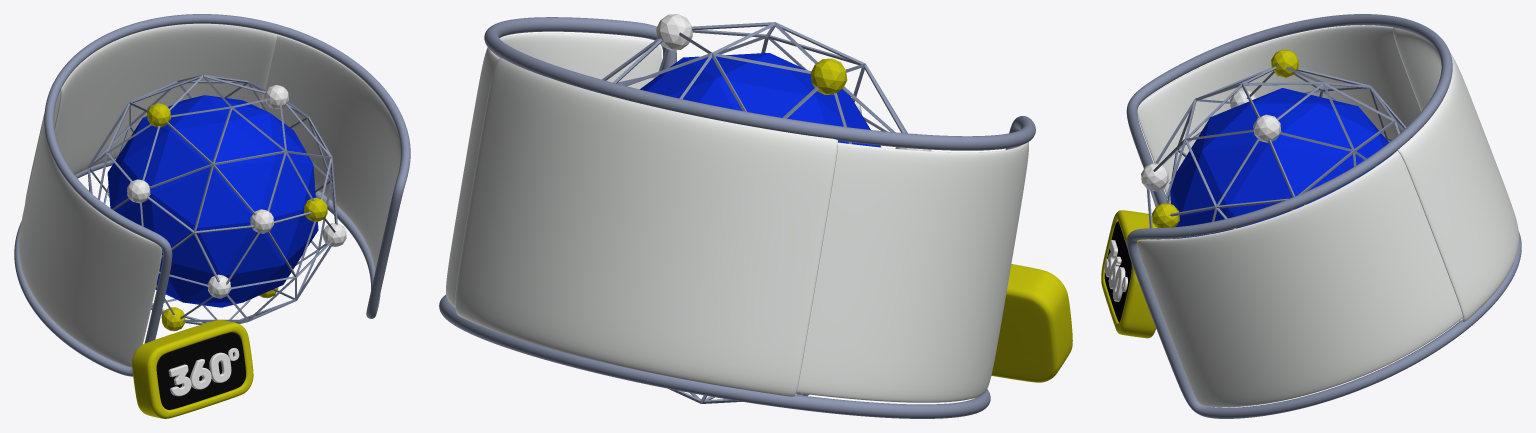
Rendered from 360-Degree AR Viewer.glb.
3 renders of one model, left to right at view 1: azimuth 30°, elevation 25°; view 2: azimuth 150°, elevation 25°; view 3: azimuth 270°, elevation 25°, orthographic. The views are drawn at different scales.
Parts seen in each view (by area): view 1: Circle.014, Icosphere.002, Circle.016, Circle.015, Icosphere.003, Cube.027, Cube.028, Text.001, Icosphere.007, Icosphere.012, Icosphere.005, Icosphere.006 (+4 smaller); view 2: Circle.016, Circle.014, Circle.015, Icosphere.002, Cube.027, Icosphere.003, Icosphere.007, Icosphere.004; view 3: Circle.014, Circle.016, Icosphere.002, Circle.015, Icosphere.003, Cube.027, Cube.028, Text.001, Icosphere.004, Icosphere.007, Icosphere.012, Icosphere.005.
Boxes of the visible parts, x1=… form: Circle.014: x1=18, y1=34, x2=400, y2=367; Icosphere.002: x1=107, y1=95, x2=318, y2=307; Circle.016: x1=25, y1=23, x2=277, y2=201; Circle.015: x1=14, y1=14, x2=410, y2=376; Icosphere.003: x1=87, y1=74, x2=337, y2=324; Cube.027: x1=132, y1=319, x2=253, y2=418; Cube.028: x1=156, y1=332, x2=245, y2=409; Text.001: x1=168, y1=348, x2=239, y2=396; Icosphere.007: x1=147, y1=103, x2=170, y2=127; Icosphere.012: x1=250, y1=209, x2=273, y2=233; Icosphere.005: x1=304, y1=197, x2=327, y2=221; Icosphere.006: x1=127, y1=179, x2=150, y2=203; Circle.016: x1=455, y1=58, x2=837, y2=396; Circle.014: x1=446, y1=33, x2=1028, y2=402; Circle.015: x1=439, y1=17, x2=1035, y2=418; Icosphere.002: x1=640, y1=53, x2=880, y2=147; Cube.027: x1=991, y1=264, x2=1072, y2=382; Icosphere.003: x1=602, y1=22, x2=907, y2=403; Icosphere.007: x1=810, y1=58, x2=847, y2=94; Icosphere.004: x1=656, y1=14, x2=692, y2=50; Circle.014: x1=1137, y1=25, x2=1463, y2=407; Circle.016: x1=1393, y1=27, x2=1519, y2=321; Icosphere.002: x1=1169, y1=88, x2=1392, y2=238; Circle.015: x1=1126, y1=14, x2=1521, y2=418; Icosphere.003: x1=1147, y1=66, x2=1406, y2=239; Cube.027: x1=1101, y1=210, x2=1159, y2=338; Cube.028: x1=1104, y1=221, x2=1131, y2=322; Text.001: x1=1104, y1=240, x2=1127, y2=301; Icosphere.004: x1=1253, y1=114, x2=1281, y2=142; Icosphere.007: x1=1271, y1=49, x2=1298, y2=77; Icosphere.012: x1=1141, y1=163, x2=1168, y2=191; Icosphere.005: x1=1152, y1=203, x2=1179, y2=227.
Bounding box in the file's own units: 4.74 × 3.67 × 4.61.
